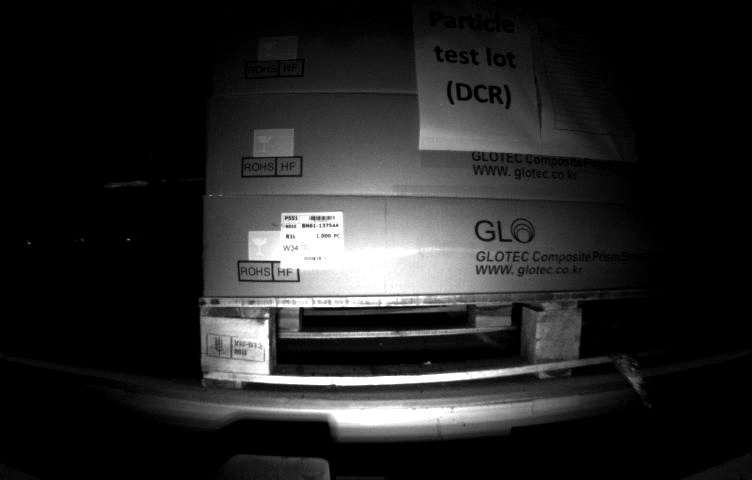True Barcode: (279, 208, 350, 271)
